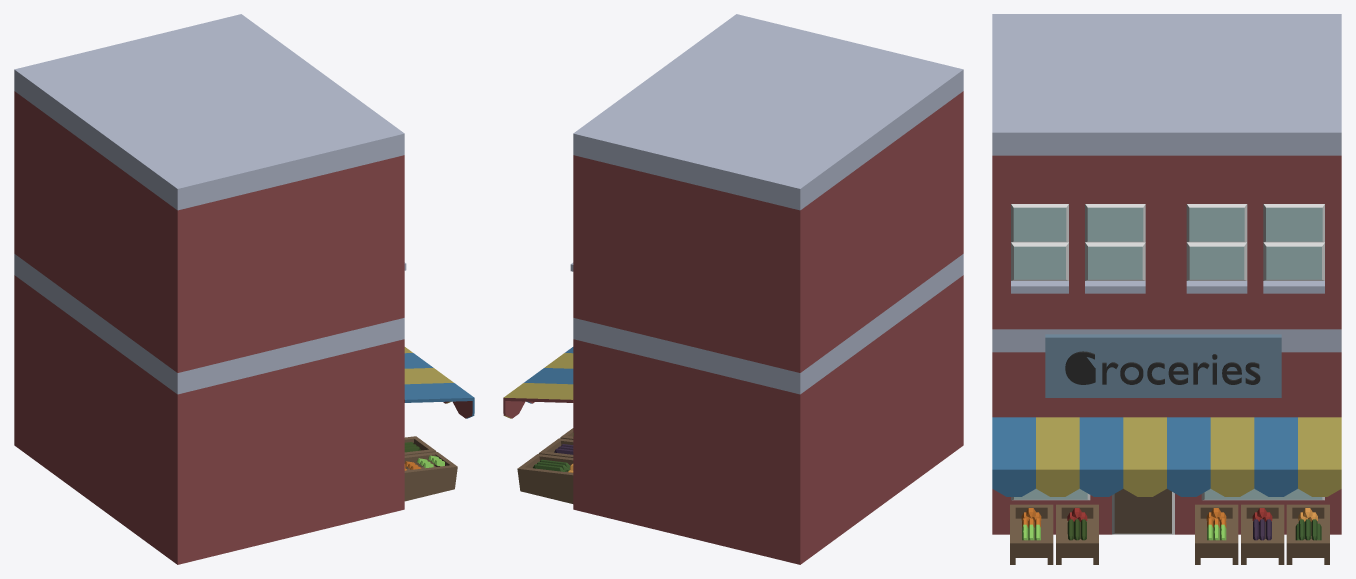
Rendered from GROCERIES_REDUCED.fbx.
The picture shows the model from 3 angles, left to right: view 1: azimuth 30°, elevation 25°; view 2: azimuth 150°, elevation 25°; view 3: azimuth 270°, elevation 25°; orthographic projection. The views are drawn at different scales.
Parts seen in each view (by area): view 1: Groceries; view 2: Groceries; view 3: Groceries.
Boxes of the visible parts, x1,y1,x2,y2 form: Groceries: [14, 14, 474, 564]; Groceries: [503, 14, 963, 564]; Groceries: [992, 14, 1341, 564].
Size of the model in its own units: 353 by 427 by 336.
